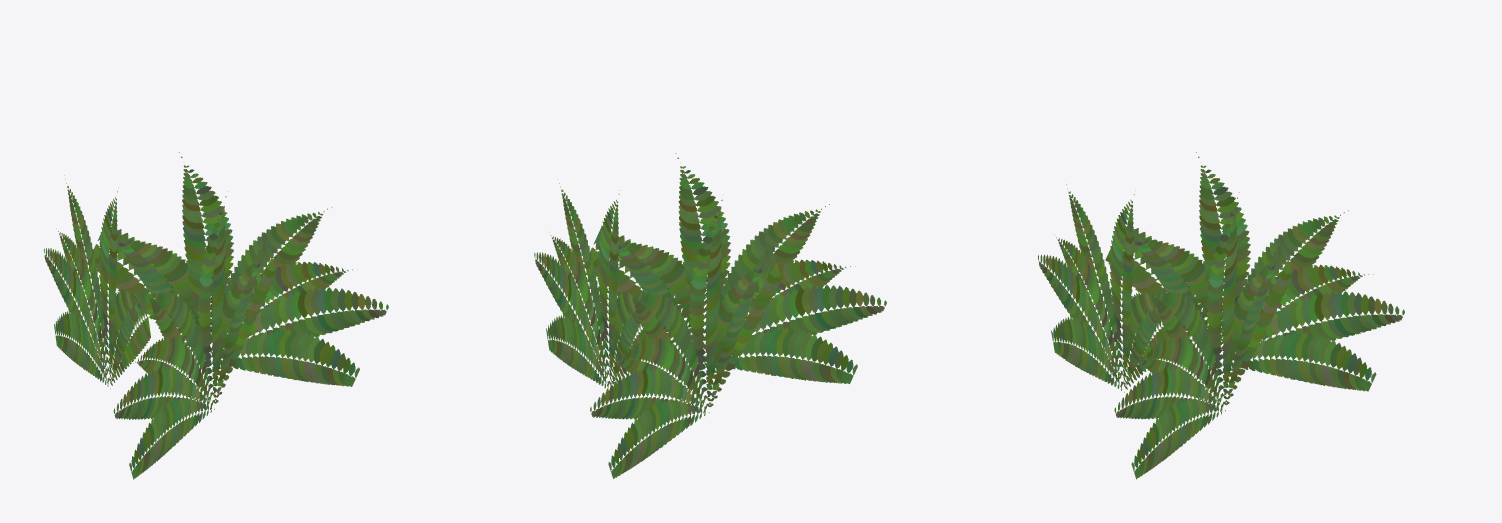
File: Fern_1_LOD1.gltf
The picture shows the model from 3 angles, left to right: view 1: azimuth 30°, elevation 25°; view 2: azimuth 150°, elevation 25°; view 3: azimuth 270°, elevation 25°; orthographic projection.
Visible parts, largest first — view 1: Fern_1_LOD1; view 2: Fern_1_LOD1; view 3: Fern_1_LOD1.
Part boxes in pixels (x1,y1,x2,y2): Fern_1_LOD1: (43, 152, 388, 479); Fern_1_LOD1: (534, 153, 886, 478); Fern_1_LOD1: (1038, 152, 1404, 479).
Bounding box in the file's own units: 1.21 × 1.06 × 1.17.
1 material, 1 textured.
